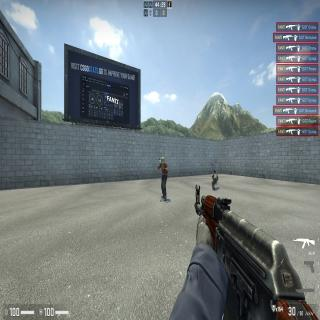T-Body: (158, 156, 168, 200)
T-Head: (160, 157, 164, 165)
